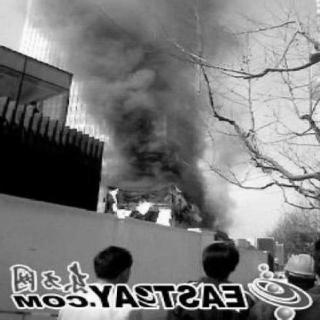Fire: (125, 186, 182, 216)
Smoke: (191, 188, 225, 222)
other: (15, 259, 101, 297), (258, 261, 296, 315), (264, 243, 317, 280)
